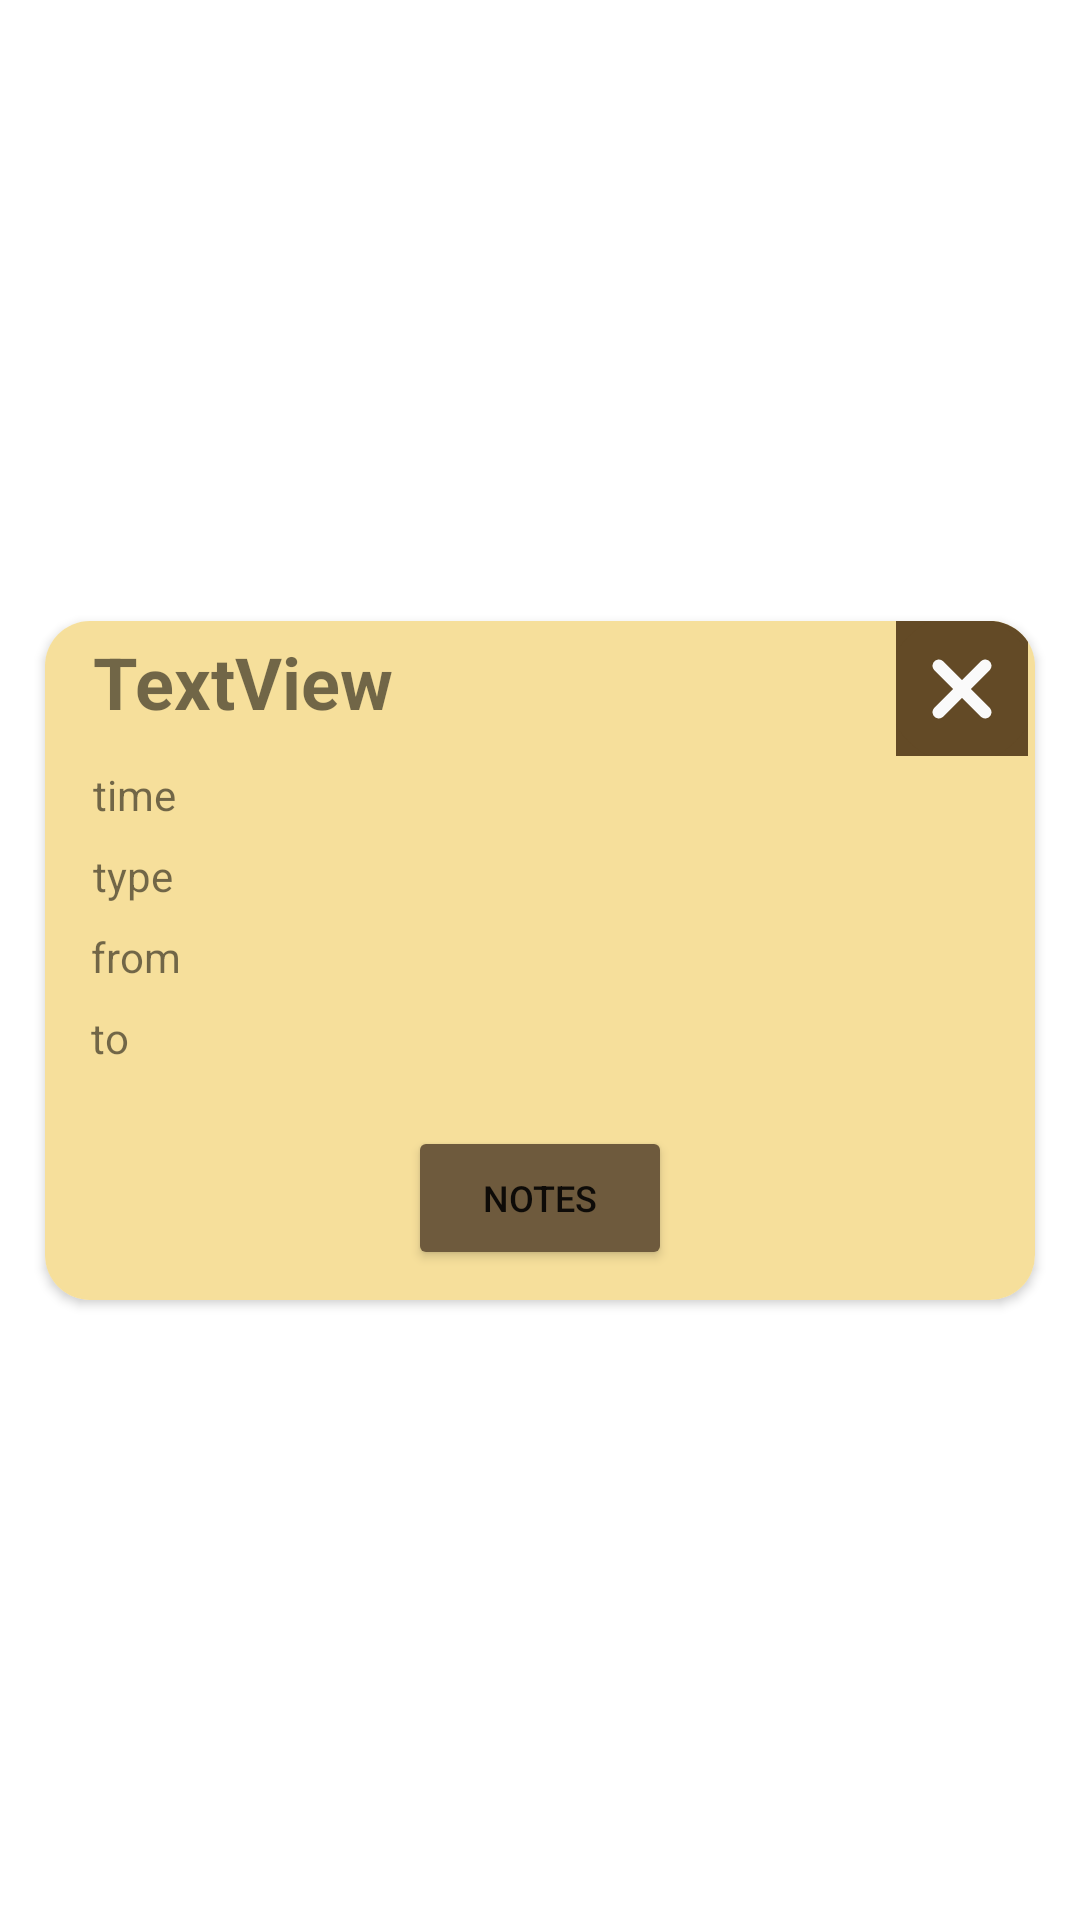

Icon click points for this 1080px x 1920px phone screenshot, format point (x, y):
remove: point (962, 688)
